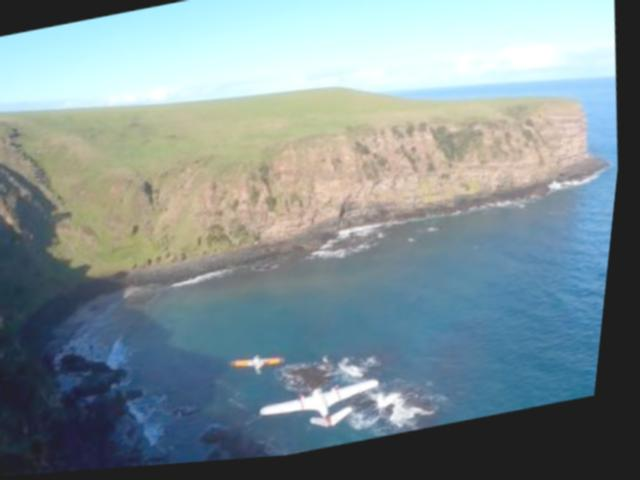uav: (263, 378, 394, 446), (235, 354, 296, 386)
